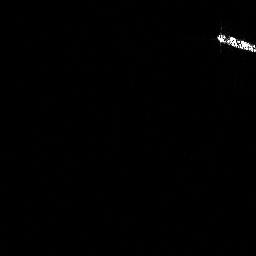ship: (214, 30, 256, 55)
